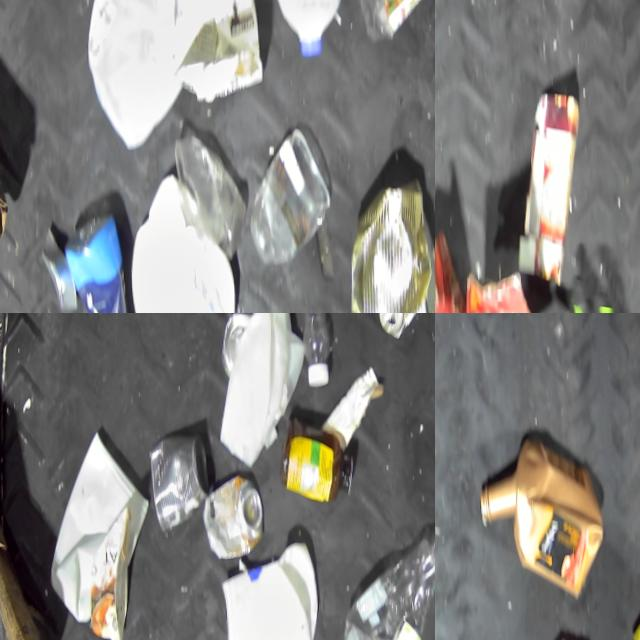can: (340, 173, 435, 313), (148, 432, 207, 539), (199, 478, 260, 563), (374, 313, 424, 338)
milk_jug: (83, 0, 190, 157), (125, 173, 235, 313), (211, 313, 304, 470), (254, 0, 353, 66)
non_white_jug: (477, 440, 601, 604), (63, 207, 134, 313)
plastic_bottle: (337, 535, 435, 640), (297, 313, 330, 390)
